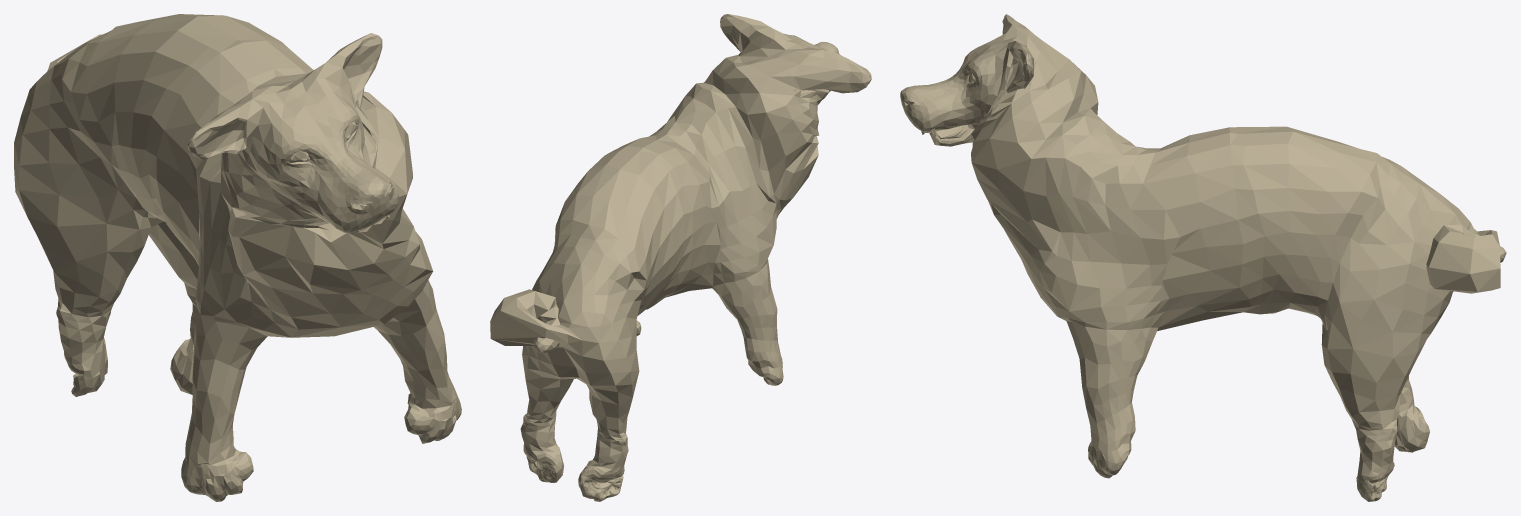
3 views of the same model, side by side, from view 1: azimuth 30°, elevation 25°; view 2: azimuth 150°, elevation 25°; view 3: azimuth 270°, elevation 25° (orthographic). The views are drawn at different scales.
Parts seen in each view (by area): view 1: world; view 2: world; view 3: world.
Part boxes in pixels (bbox=[...]): world: bbox=[14, 14, 461, 501]; world: bbox=[490, 14, 871, 501]; world: bbox=[900, 14, 1506, 501].
Bounding box in the file's own units: 0.5545 × 0.8364 × 1.07.
